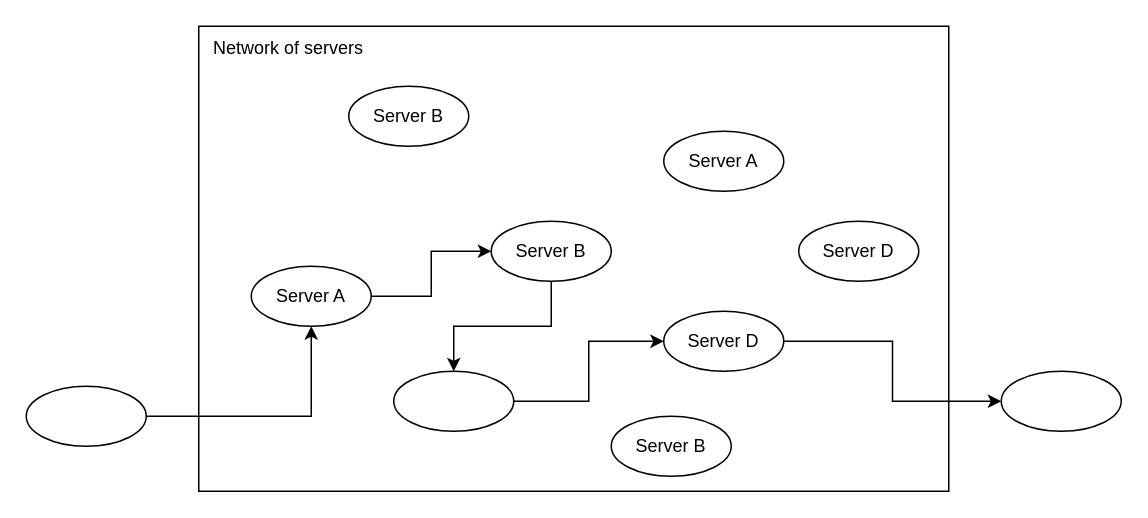
This 1148x518 diagram has some shape labels left out. The shapes that lost their labels are listed below. From the top down, each one's centre as x and y in pixels, then its label:
At point 85,415: "User".
At point 453,400: "Server C".
At point 1060,400: "YouTube".
